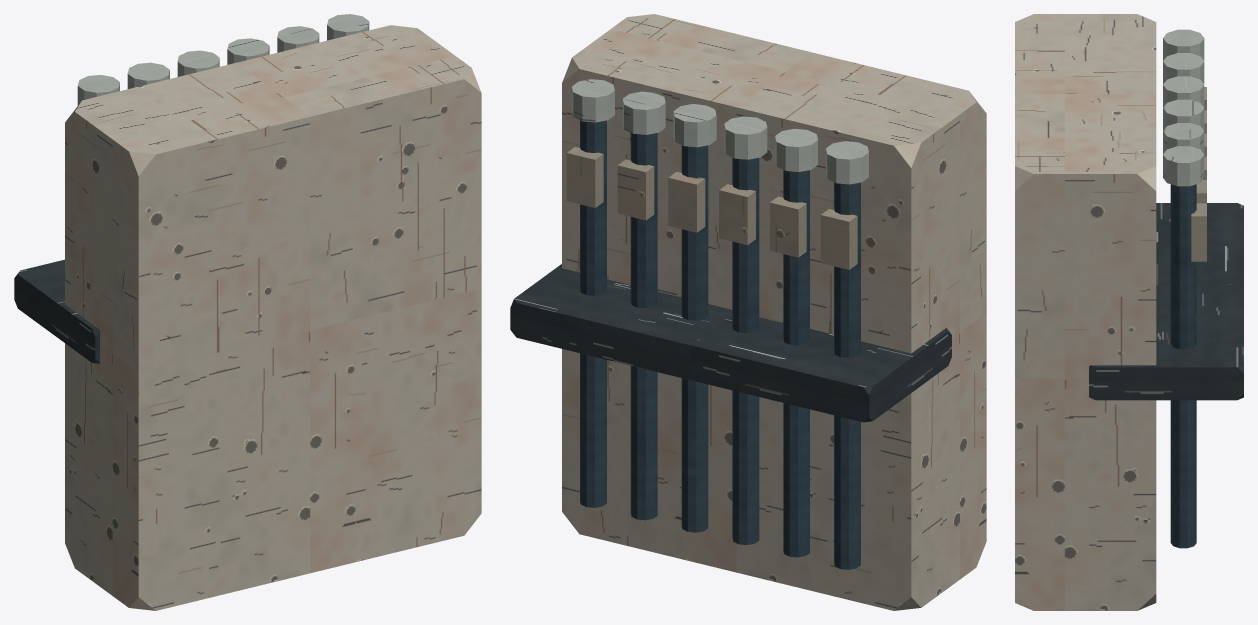
The model's file is field_kit_1.glb.
3 renders of one model, left to right at view 1: azimuth 30°, elevation 25°; view 2: azimuth 150°, elevation 25°; view 3: azimuth 270°, elevation 25°, orthographic. The views are drawn at different scales.
Visible parts, largest first — view 1: stake_case_soft_shell_warm_shell, stake_bundle_closure_graphite, stake_top_metal_0_satin_steel, stake_top_metal_2_satin_steel, stake_top_metal_1_satin_steel, stake_top_metal_3_satin_steel, stake_top_metal_4_satin_steel, stake_top_metal_5_satin_steel; view 2: stake_case_soft_shell_warm_shell, stake_bundle_closure_graphite, stake_segment_2_slate_panel, stake_segment_3_slate_panel, stake_segment_4_slate_panel, stake_segment_5_slate_panel, stake_segment_0_slate_panel, stake_segment_1_slate_panel, stake_tip_flag_3_warm_panel, stake_tip_flag_4_warm_panel, stake_tip_flag_5_warm_panel, stake_tip_flag_0_warm_panel (+8 smaller); view 3: stake_case_soft_shell_warm_shell, stake_bundle_closure_graphite, stake_segment_5_slate_panel, stake_top_metal_5_satin_steel, stake_top_metal_2_satin_steel, stake_top_metal_4_satin_steel, stake_top_metal_1_satin_steel, stake_top_metal_3_satin_steel, stake_top_metal_0_satin_steel, stake_tip_flag_5_warm_panel.
Boxes of the visible parts, x1=… form: stake_case_soft_shell_warm_shell: x1=65, y1=25, x2=481, y2=610; stake_bundle_closure_graphite: x1=14, y1=259, x2=99, y2=363; stake_top_metal_0_satin_steel: x1=77, y1=75, x2=119, y2=105; stake_top_metal_2_satin_steel: x1=177, y1=50, x2=219, y2=76; stake_top_metal_1_satin_steel: x1=127, y1=62, x2=169, y2=88; stake_top_metal_3_satin_steel: x1=227, y1=38, x2=269, y2=64; stake_top_metal_4_satin_steel: x1=277, y1=26, x2=319, y2=52; stake_top_metal_5_satin_steel: x1=327, y1=14, x2=369, y2=40; stake_case_soft_shell_warm_shell: x1=562, y1=14, x2=986, y2=610; stake_bundle_closure_graphite: x1=510, y1=264, x2=951, y2=422; stake_segment_2_slate_panel: x1=732, y1=157, x2=759, y2=544; stake_segment_3_slate_panel: x1=681, y1=145, x2=708, y2=532; stake_segment_4_slate_panel: x1=630, y1=133, x2=657, y2=520; stake_segment_5_slate_panel: x1=580, y1=120, x2=606, y2=507; stake_segment_0_slate_panel: x1=834, y1=182, x2=860, y2=569; stake_segment_1_slate_panel: x1=783, y1=170, x2=809, y2=557; stake_tip_flag_3_warm_panel: x1=668, y1=171, x2=705, y2=232; stake_tip_flag_4_warm_panel: x1=617, y1=159, x2=654, y2=220; stake_tip_flag_5_warm_panel: x1=566, y1=147, x2=603, y2=207; stake_tip_flag_0_warm_panel: x1=820, y1=209, x2=857, y2=269; stake_case_soft_shell_warm_shell: x1=1015, y1=14, x2=1156, y2=610; stake_bundle_closure_graphite: x1=1089, y1=203, x2=1243, y2=400; stake_segment_5_slate_panel: x1=1170, y1=184, x2=1196, y2=548; stake_top_metal_5_satin_steel: x1=1163, y1=146, x2=1204, y2=186; stake_top_metal_2_satin_steel: x1=1163, y1=76, x2=1204, y2=107; stake_top_metal_4_satin_steel: x1=1163, y1=123, x2=1204, y2=153; stake_top_metal_1_satin_steel: x1=1163, y1=53, x2=1204, y2=84; stake_top_metal_3_satin_steel: x1=1163, y1=99, x2=1204, y2=130; stake_top_metal_0_satin_steel: x1=1163, y1=29, x2=1204, y2=60; stake_tip_flag_5_warm_panel: x1=1191, y1=203, x2=1206, y2=261.
Size of the model in its own units: 0.226 by 0.28 by 0.133.
5 materials, 5 textured.
